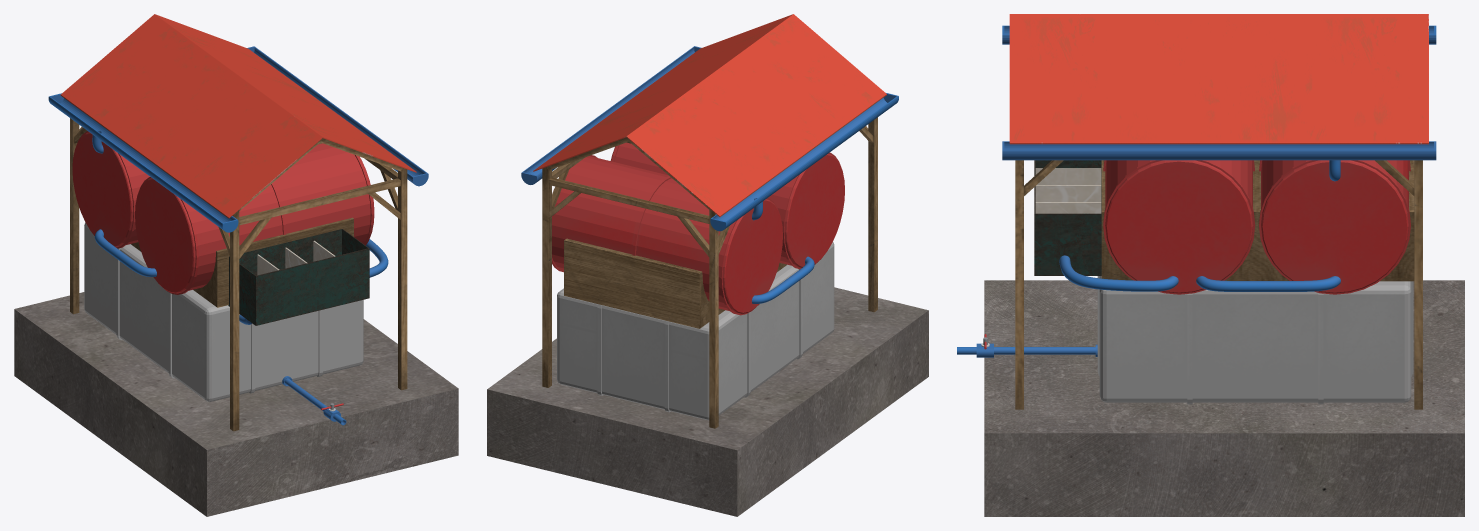
The model's file is rain_water_collector_idea_model_2.glb.
3 views of the same model, side by side, from view 1: azimuth 30°, elevation 25°; view 2: azimuth 150°, elevation 25°; view 3: azimuth 270°, elevation 25° (orthographic). The views are drawn at different scales.
Parts seen in each view (by area): view 1: Object_5, Object_6, Object_4, Object_3, Object_11, Object_7, Object_12, Object_2, Object_9, Object_8; view 2: Object_5, Object_6, Object_4, Object_3, Object_7, Object_2, Object_12, Object_9; view 3: Object_5, Object_6, Object_4, Object_3, Object_12, Object_11, Object_7, Object_2, Object_9, Object_8.
Part boxes in pixels (left/top/right/bottom): Object_5: left=14, top=292, right=458, bottom=516; Object_6: left=60, top=14, right=416, bottom=218; Object_4: left=84, top=222, right=363, bottom=401; Object_3: left=72, top=131, right=374, bottom=294; Object_11: left=228, top=229, right=369, bottom=325; Object_7: left=70, top=118, right=407, bottom=431; Object_12: left=48, top=46, right=428, bottom=232; Object_2: left=131, top=217, right=353, bottom=307; Object_9: left=94, top=229, right=388, bottom=324; Object_8: left=282, top=376, right=346, bottom=425; Object_5: left=487, top=287, right=928, bottom=516; Object_6: left=533, top=14, right=886, bottom=216; Object_4: left=557, top=242, right=834, bottom=420; Object_3: left=552, top=142, right=844, bottom=315; Object_7: left=542, top=117, right=877, bottom=428; Object_2: left=564, top=238, right=786, bottom=328; Object_12: left=521, top=46, right=898, bottom=231; Object_9: left=751, top=256, right=814, bottom=303; Object_5: left=984, top=280, right=1464, bottom=516; Object_6: left=1009, top=14, right=1428, bottom=144; Object_4: left=1097, top=276, right=1413, bottom=404; Object_3: left=1103, top=160, right=1410, bottom=294; Object_12: left=1002, top=25, right=1436, bottom=181; Object_11: left=1034, top=160, right=1101, bottom=275; Object_7: left=1015, top=160, right=1422, bottom=409; Object_2: left=1101, top=160, right=1414, bottom=281; Object_9: left=1059, top=255, right=1340, bottom=291; Object_8: left=957, top=343, right=1097, bottom=357.
Bounding box in the file's own units: 9.46 × 12.27 × 13.24.
11 materials, 11 textured.
